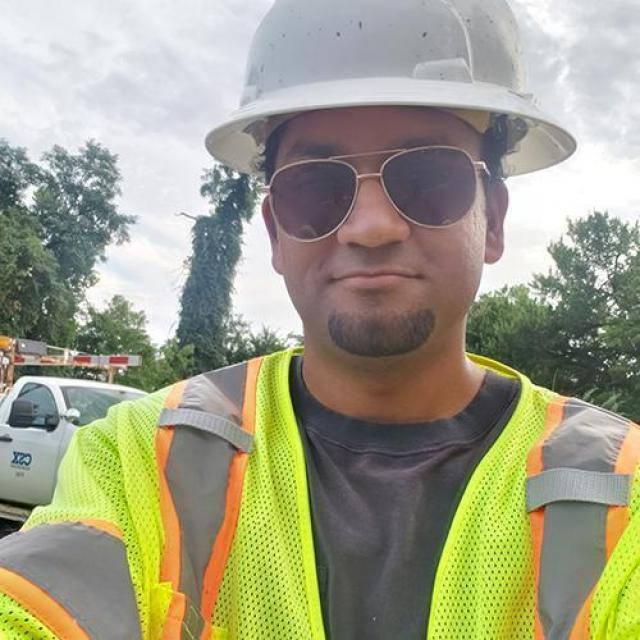hat: (205, 0, 578, 182)
